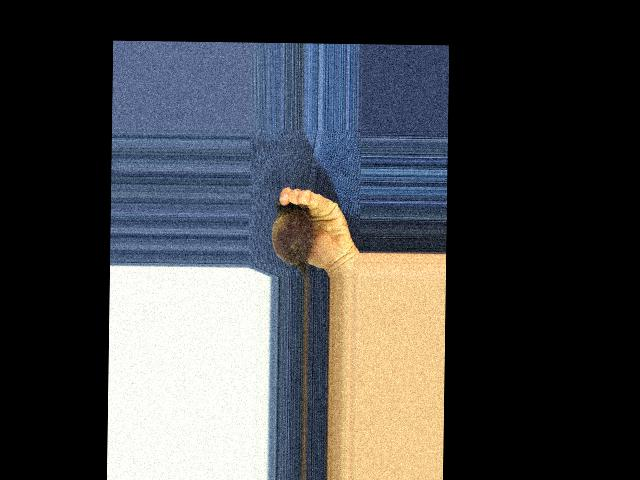beet: (271, 198, 315, 276)
